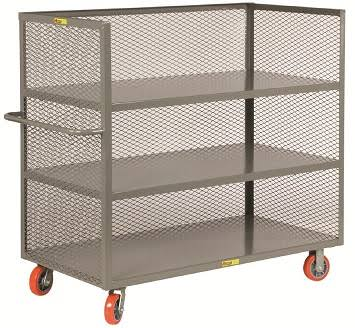Carts: (4, 3, 345, 326)
